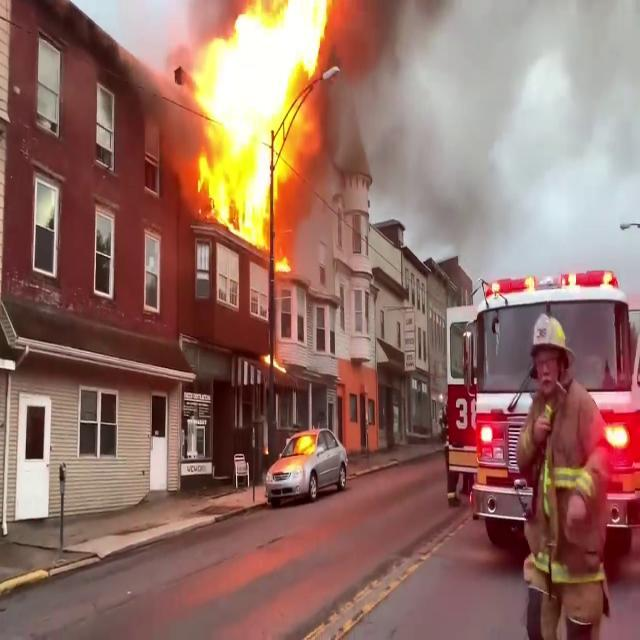Fire: (188, 0, 340, 262)
Smoke: (331, 0, 640, 265)
